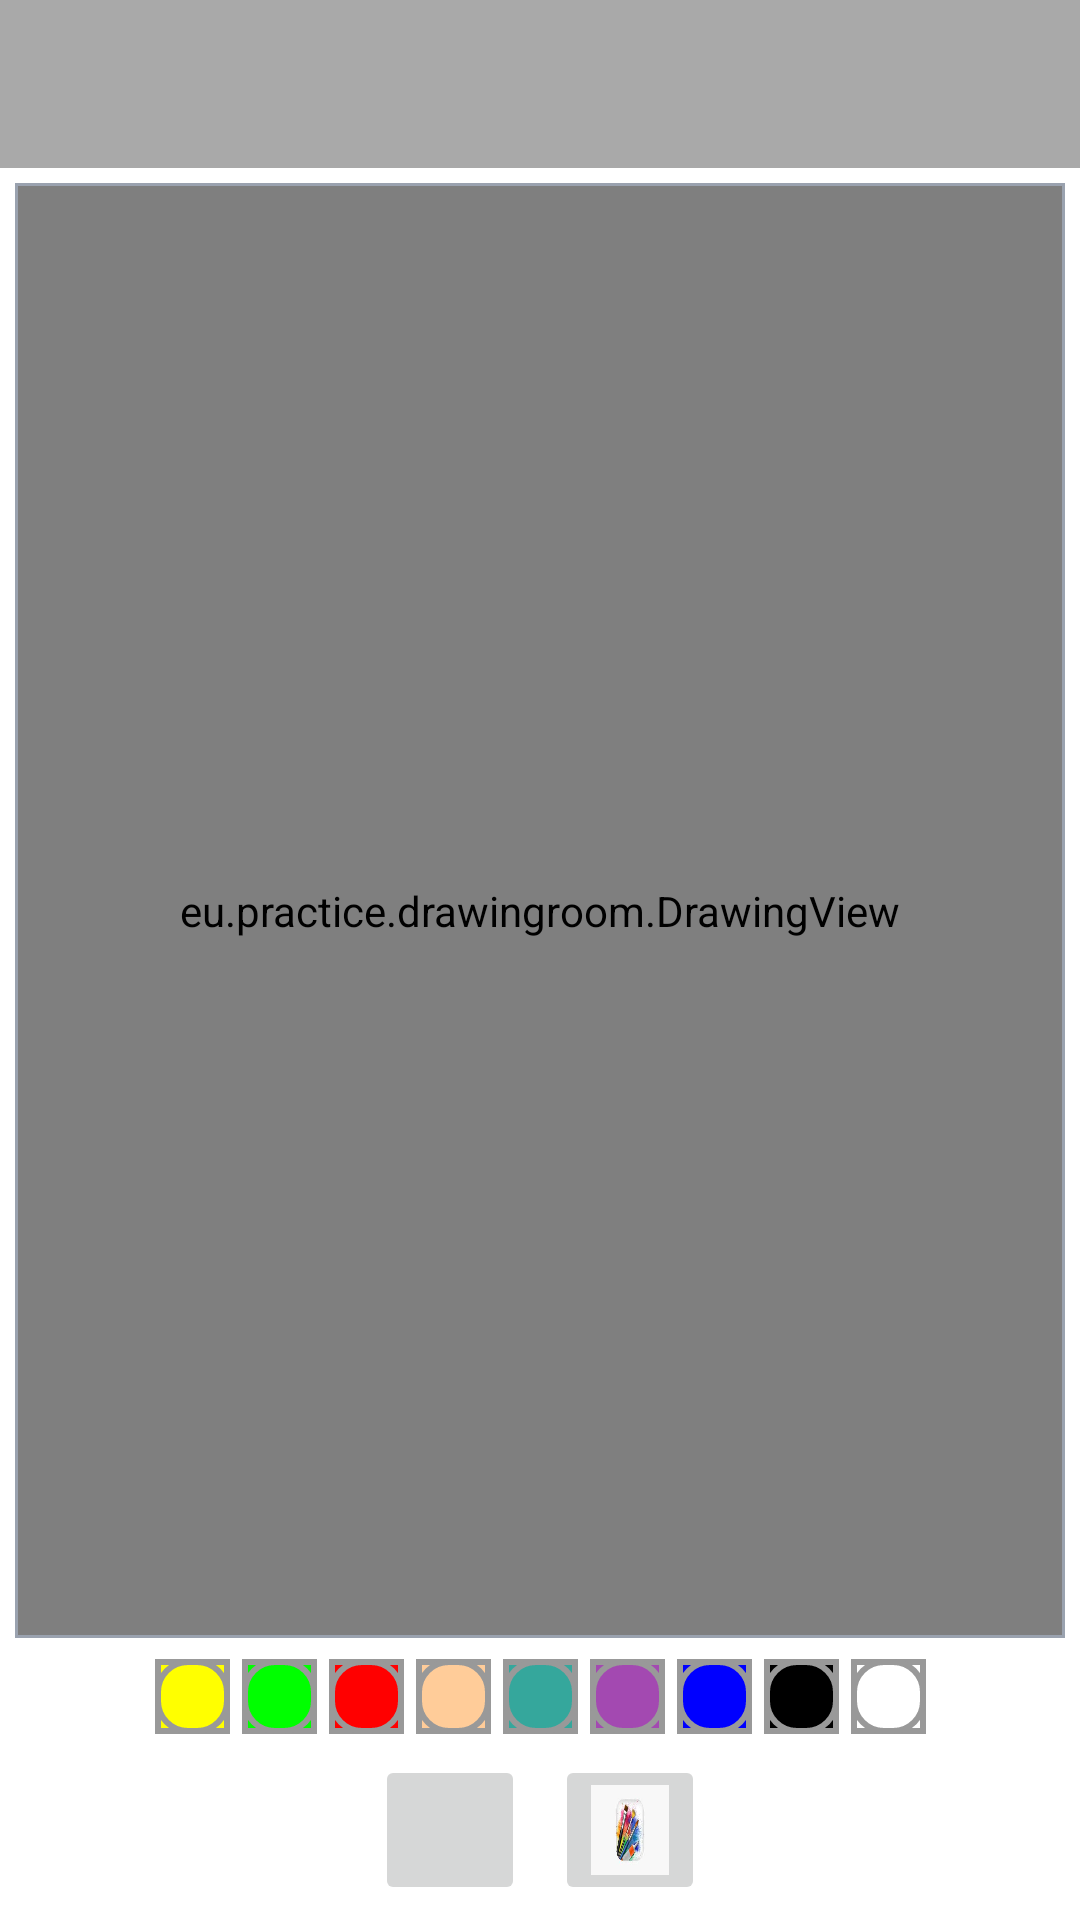

Point at icon controls on the screen. Image size 1080 × 1920, points as (x,y).
brush: (630,1830)
